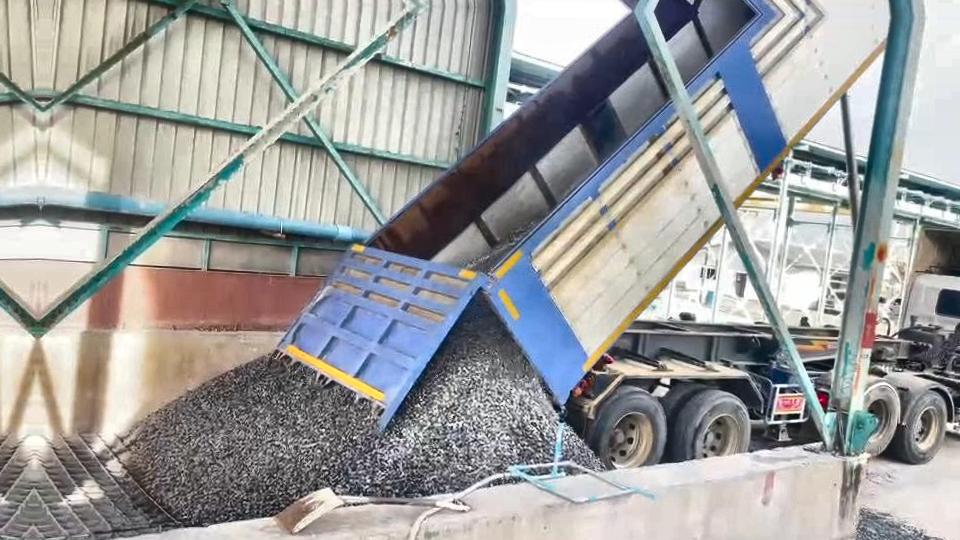gravel: (120, 297, 557, 525), (839, 509, 960, 540), (565, 428, 601, 469)
